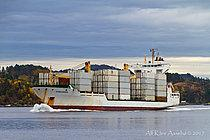Ship: (33, 54, 191, 114)
